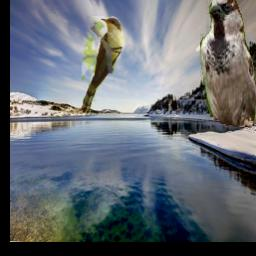Cuckoo: (82, 16, 124, 113)
Sparrow: (200, 0, 256, 138)
